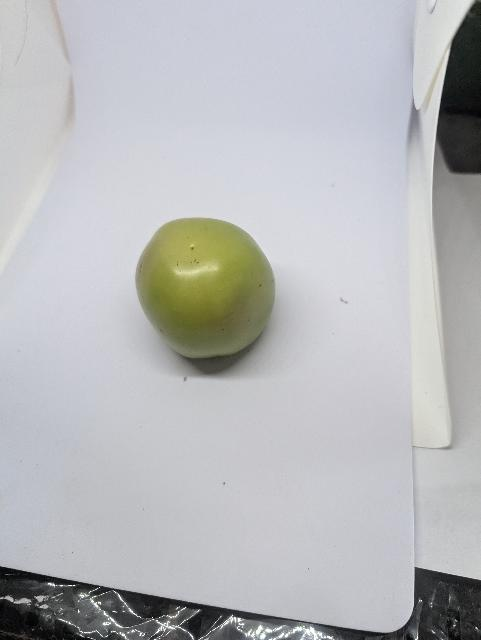green: (121, 207, 283, 375)
